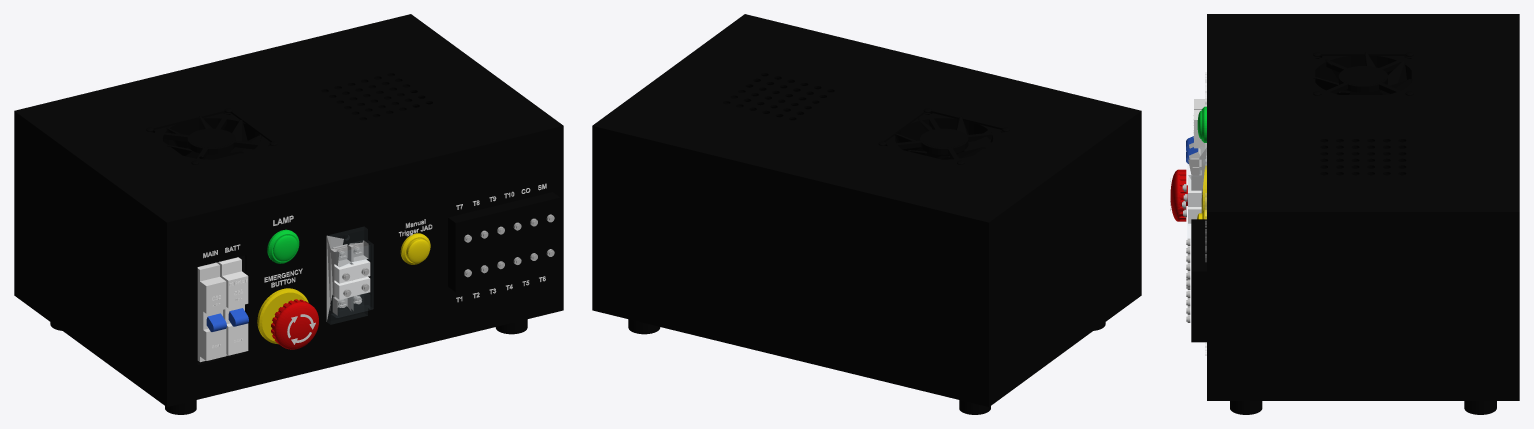
Rendered from REV1.glb.
3 renders of one model, left to right at view 1: azimuth 30°, elevation 25°; view 2: azimuth 150°, elevation 25°; view 3: azimuth 270°, elevation 25°, orthographic. The views are drawn at different scales.
Parts seen in each view (by area): view 1: OpenSCAD Model, OpenSCAD Model.001, OpenSCAD Model.019, OpenSCAD Model.047, OpenSCAD Model.142, OpenSCAD Model.134, OpenSCAD Model.077, OpenSCAD Model.075, OpenSCAD Model.049, OpenSCAD Model.074; view 2: OpenSCAD Model; view 3: OpenSCAD Model, OpenSCAD Model.047, OpenSCAD Model.142, OpenSCAD Model.019.
Boxes of the visible parts, x1,y1,x2,y2 form: OpenSCAD Model: (14,14,563,414); OpenSCAD Model.001: (197,262,226,362); OpenSCAD Model.019: (216,257,248,355); OpenSCAD Model.047: (271,299,318,349); OpenSCAD Model.142: (326,235,368,321); OpenSCAD Model.134: (257,288,308,343); OpenSCAD Model.077: (400,233,430,264); OpenSCAD Model.075: (334,259,370,283); OpenSCAD Model.049: (273,234,298,261); OpenSCAD Model.074: (332,276,370,299); OpenSCAD Model: (592,14,1141,414); OpenSCAD Model: (1191,14,1519,414); OpenSCAD Model.047: (1170,169,1187,221); OpenSCAD Model.142: (1188,147,1206,197); OpenSCAD Model.019: (1189,110,1206,165).
Size of the model in its own units: 0.36 by 0.1814 by 0.2683.
